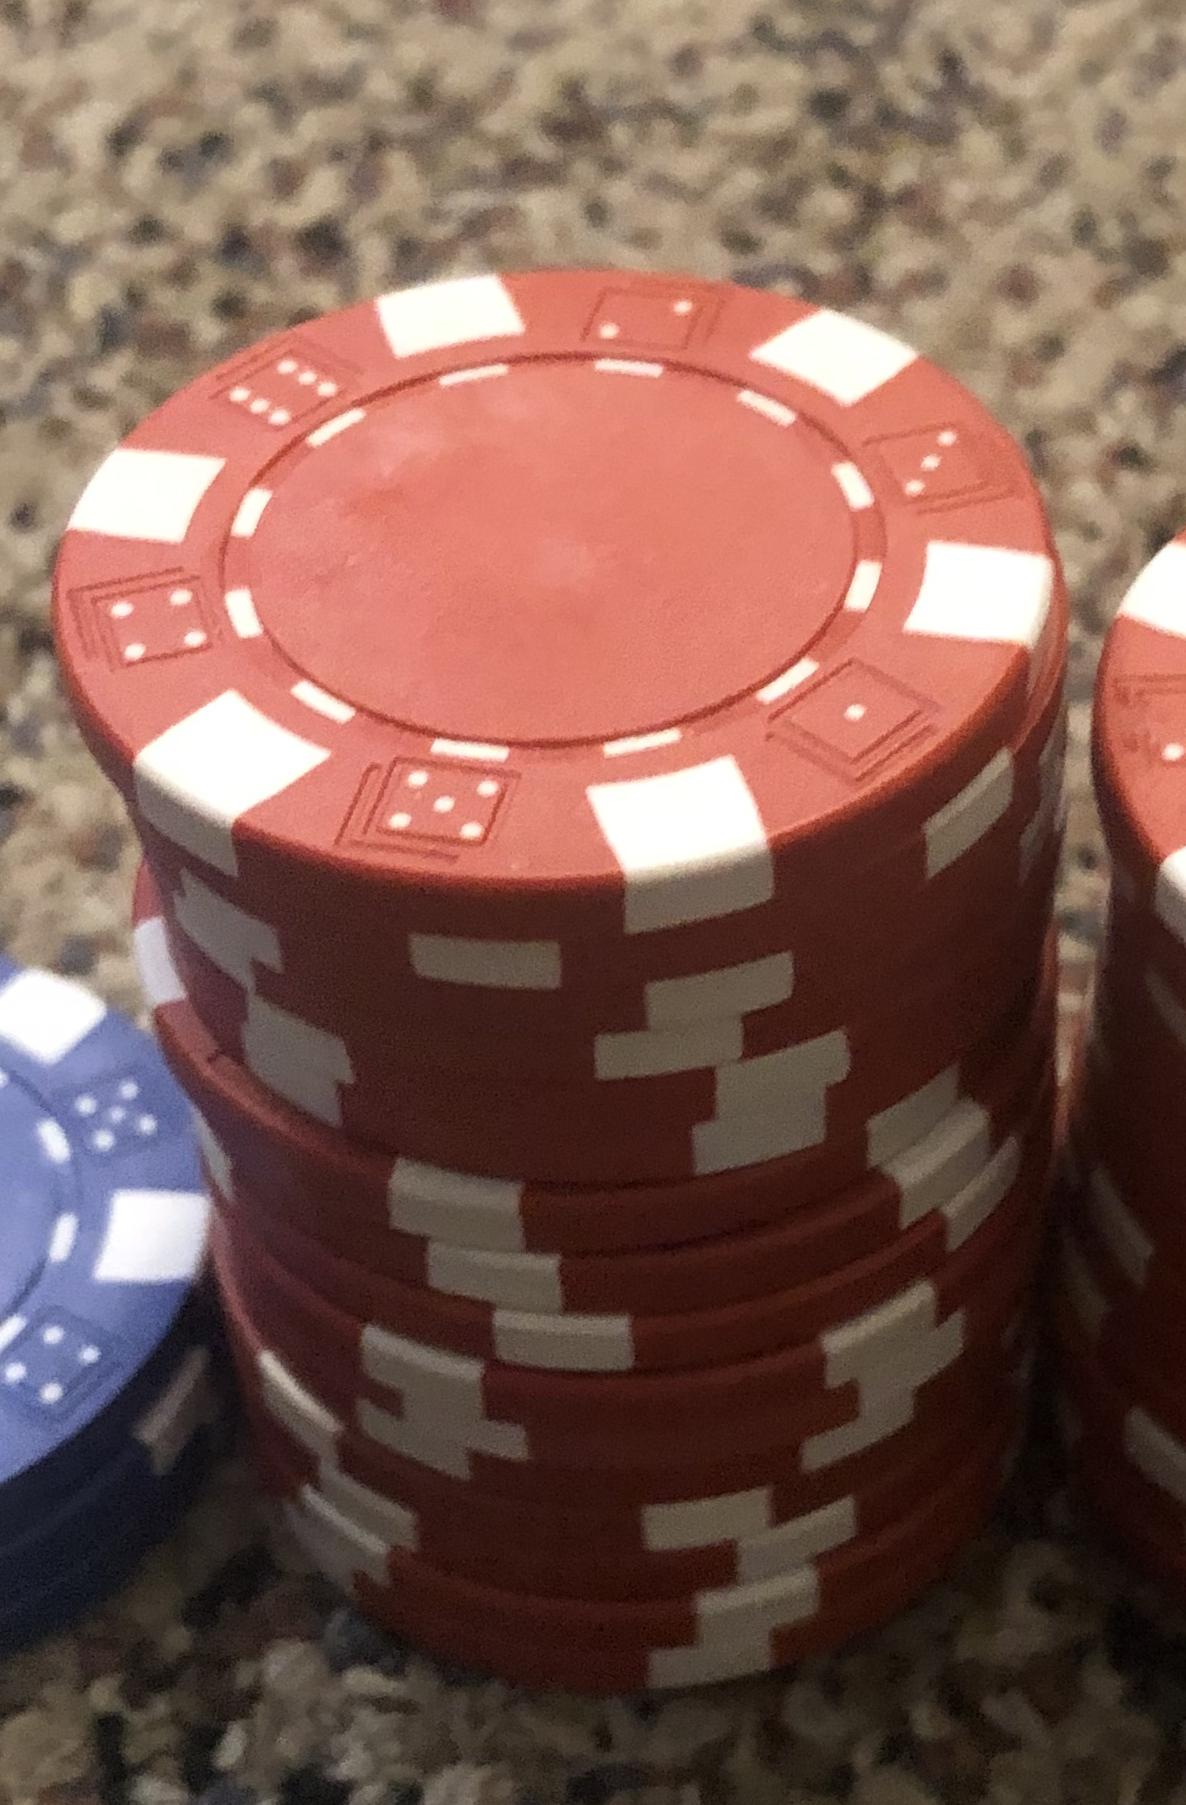Chip: (1, 1, 1186, 1805)
